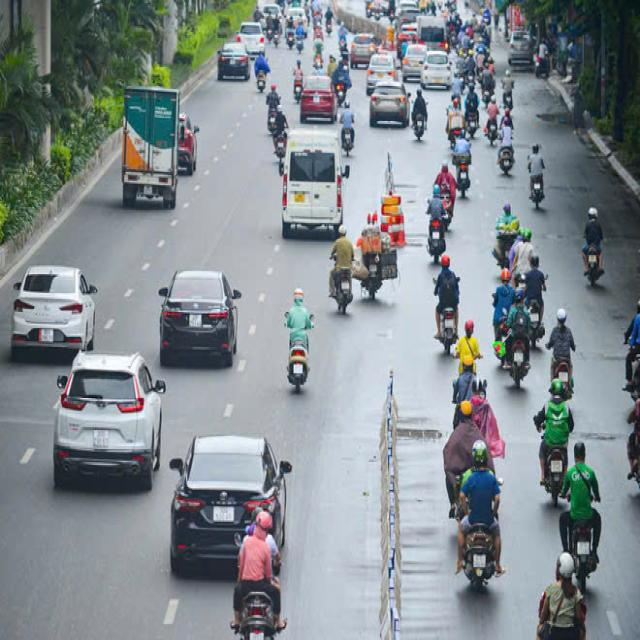Truck: (119, 85, 180, 209), (420, 16, 447, 56)
car: (174, 428, 290, 574), (56, 352, 160, 492), (15, 257, 96, 367), (160, 264, 236, 366), (369, 81, 412, 126), (216, 35, 248, 80), (423, 50, 453, 94), (370, 55, 398, 93), (351, 30, 376, 68), (405, 42, 427, 80), (398, 23, 418, 48)
motobyte: (464, 457, 501, 591), (237, 532, 281, 640), (568, 449, 598, 583), (544, 562, 594, 639), (541, 392, 567, 499), (435, 266, 454, 357), (288, 300, 306, 391), (512, 296, 528, 393), (527, 260, 544, 351), (333, 237, 352, 316), (554, 320, 572, 400), (497, 271, 514, 353), (585, 210, 602, 292), (366, 213, 382, 297), (426, 191, 444, 263), (438, 165, 452, 229), (455, 138, 471, 192), (274, 111, 288, 171), (447, 95, 462, 147), (413, 90, 428, 141), (528, 152, 542, 206), (340, 100, 353, 158), (499, 125, 512, 177), (468, 82, 479, 139), (486, 96, 496, 152), (536, 42, 551, 77), (267, 85, 278, 132), (256, 47, 266, 94), (334, 66, 346, 105), (293, 59, 302, 104), (466, 50, 476, 85), (294, 22, 304, 55), (338, 22, 348, 54), (504, 72, 512, 110), (483, 68, 492, 101), (274, 13, 282, 48), (287, 18, 295, 52), (314, 41, 322, 72), (452, 74, 461, 101), (458, 52, 464, 92), (326, 8, 334, 38), (478, 49, 484, 88), (267, 11, 274, 43), (315, 23, 323, 41)
